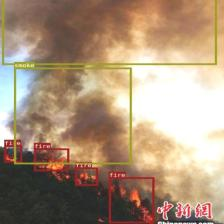fire: (108, 177, 154, 223), (34, 148, 69, 171), (75, 167, 98, 185), (4, 145, 22, 162)
smoke: (1, 0, 216, 64), (14, 68, 132, 164)
